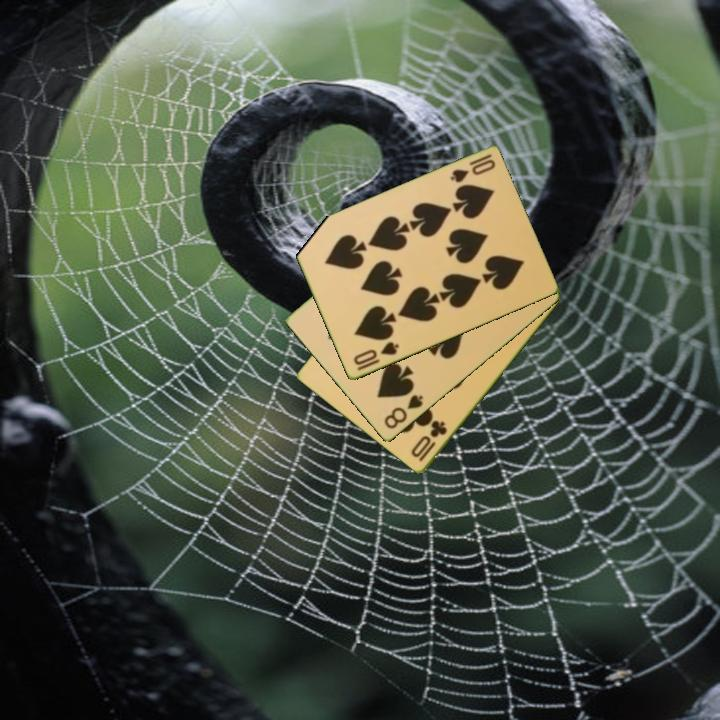10c: (407, 417, 450, 465)
10s: (350, 338, 402, 374), (446, 151, 498, 186)
8s: (380, 392, 426, 432)
